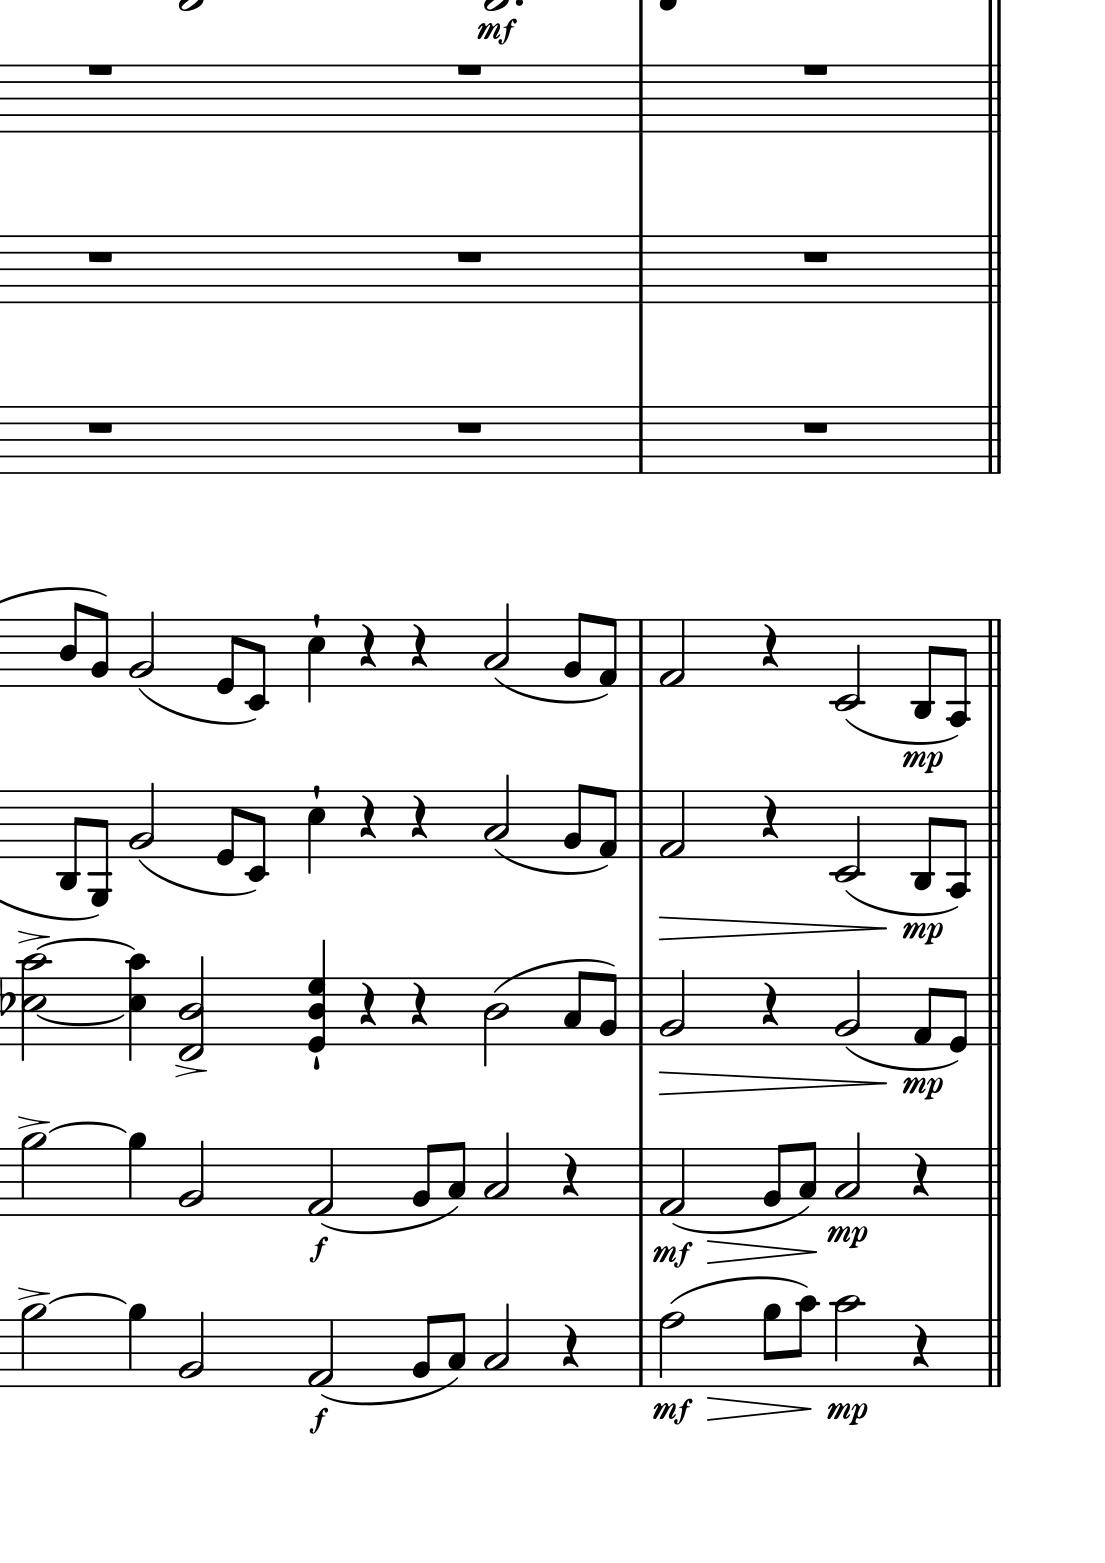2_-1_4: (178, 955, 206, 1062)
2_-2: (832, 788, 863, 884), (832, 616, 862, 714)
2_1: (657, 787, 688, 861), (657, 616, 688, 689), (657, 1146, 686, 1220), (306, 1146, 335, 1219), (306, 1318, 335, 1388)
2_10: (831, 1292, 863, 1390)
2_2: (129, 608, 160, 696), (129, 779, 160, 863), (834, 967, 863, 1048), (658, 967, 686, 1048), (177, 1138, 206, 1217), (176, 1309, 204, 1388)
2_3: (481, 1129, 512, 1219), (482, 773, 512, 862), (481, 1300, 511, 1388), (834, 1130, 863, 1217), (482, 602, 511, 692)
2_4: (481, 975, 511, 1069)
2_5_10: (16, 953, 54, 1061)
2_8: (657, 1309, 686, 1391)
2_9: (18, 1131, 45, 1219), (18, 1303, 45, 1388)
4_5: (304, 616, 326, 706), (304, 787, 326, 875)
4_5_10: (124, 952, 149, 1062)
4_9: (124, 1130, 149, 1219), (126, 1302, 149, 1390)
4_th: (304, 939, 329, 1055)
8_-2: (245, 618, 271, 713), (245, 788, 271, 883)
8_-3: (56, 784, 86, 892), (911, 786, 941, 892), (911, 615, 940, 719)
8_-4: (944, 789, 970, 899), (944, 617, 970, 726)
8_-5: (87, 787, 112, 906)
8_0: (214, 787, 242, 865), (214, 617, 240, 695), (950, 977, 967, 1055)
8_1: (911, 977, 939, 1048), (597, 787, 619, 862), (597, 616, 618, 691)
8_10: (789, 1293, 819, 1388)
8_2: (407, 1141, 436, 1219), (561, 610, 590, 689), (561, 782, 590, 861), (758, 1142, 786, 1219), (409, 1314, 435, 1390), (88, 604, 111, 690), (598, 971, 619, 1048)
8_3: (562, 969, 590, 1048), (446, 1138, 468, 1219), (796, 1138, 817, 1219), (446, 1311, 466, 1391)
8_4: (57, 602, 86, 689)
8_9: (758, 1302, 782, 1388)
Accent_above: (14, 1286, 48, 1303), (16, 926, 48, 944), (172, 1062, 206, 1079), (14, 1115, 47, 1130)
Diminuendo_hairpin: (659, 914, 889, 939), (657, 1071, 889, 1095), (706, 1241, 817, 1263), (707, 1396, 811, 1418)
Double_barline: (979, 790, 1006, 859), (979, 619, 1006, 686), (981, 65, 1006, 132), (981, 236, 1006, 303), (981, 407, 1006, 474), (979, 979, 1005, 1045), (981, 1149, 1005, 1215), (982, 1321, 1005, 1387)
Flat: (1, 973, 18, 1020)
Rests1: (83, 59, 116, 79), (83, 417, 116, 438), (83, 248, 117, 267), (453, 60, 486, 79), (799, 60, 831, 79), (453, 417, 486, 436), (799, 417, 831, 436), (453, 248, 486, 265), (799, 248, 831, 265)
Rests4: (906, 1150, 933, 1199), (405, 979, 431, 1030), (405, 793, 431, 842), (355, 979, 380, 1028), (557, 1150, 582, 1199), (557, 1321, 582, 1370), (908, 1321, 933, 1370), (405, 622, 431, 670), (757, 622, 781, 670), (758, 979, 781, 1028), (356, 622, 379, 670), (758, 794, 781, 841), (356, 793, 378, 839)
Single_barline: (631, 1319, 653, 1387), (630, 236, 651, 303), (630, 66, 651, 132), (631, 977, 651, 1046), (631, 1149, 651, 1216), (631, 790, 649, 859), (631, 407, 649, 474), (631, 619, 649, 686)
Slur: (138, 686, 257, 726), (139, 859, 258, 898), (493, 957, 616, 993), (674, 1207, 814, 1237), (322, 1207, 457, 1237), (323, 1376, 462, 1405), (494, 844, 609, 878), (492, 674, 608, 706), (670, 1278, 794, 1306), (843, 889, 958, 917), (847, 718, 958, 744), (41, 1121, 124, 1137), (38, 938, 140, 951), (44, 1292, 123, 1307)
f: (305, 1235, 330, 1264), (306, 1405, 329, 1436)
mf: (649, 1237, 694, 1272), (649, 1394, 692, 1428), (474, 16, 519, 47), (901, 1071, 945, 1103), (902, 746, 945, 776)
mp: (824, 1399, 871, 1431), (824, 1222, 869, 1254), (901, 918, 947, 948)
